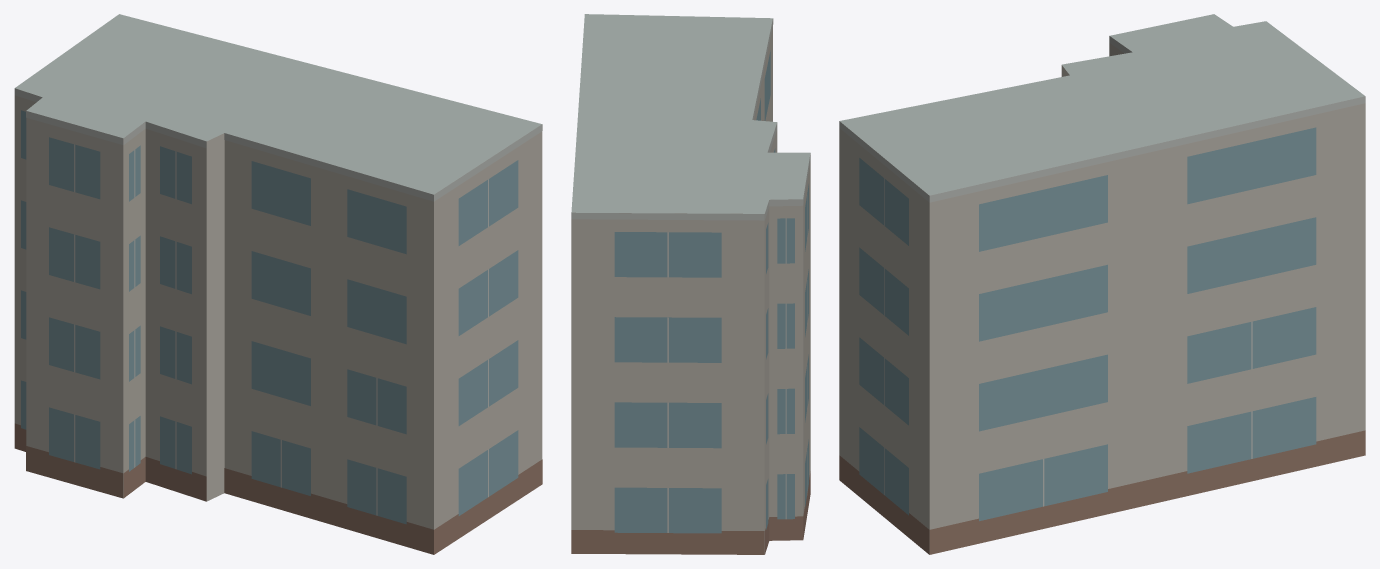
Rendered from survey-upis-32631736.glb.
The picture shows the model from 3 angles, left to right: view 1: azimuth 30°, elevation 25°; view 2: azimuth 150°, elevation 25°; view 3: azimuth 270°, elevation 25°; orthographic projection. The views are drawn at different scales.
Parts seen in each view (by area): view 1: survey-upis-32631736.tmp; view 2: survey-upis-32631736.tmp; view 3: survey-upis-32631736.tmp.
Boxes of the visible parts, x1,y1,x2,y2 form: survey-upis-32631736.tmp: [14, 14, 542, 554]; survey-upis-32631736.tmp: [571, 14, 810, 554]; survey-upis-32631736.tmp: [839, 14, 1365, 554].
Size of the model in its own units: 13.68 by 12.6 by 16.74.
